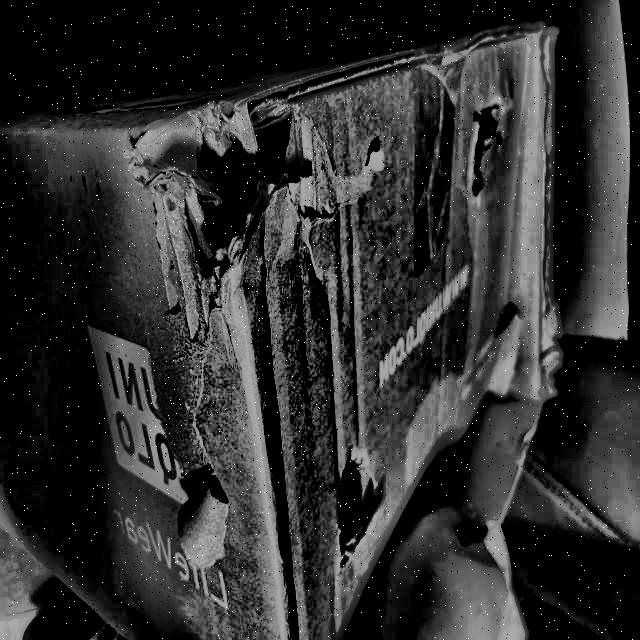box: (0, 18, 566, 640)
hole: (147, 84, 351, 298), (330, 449, 388, 577), (461, 97, 507, 210)
